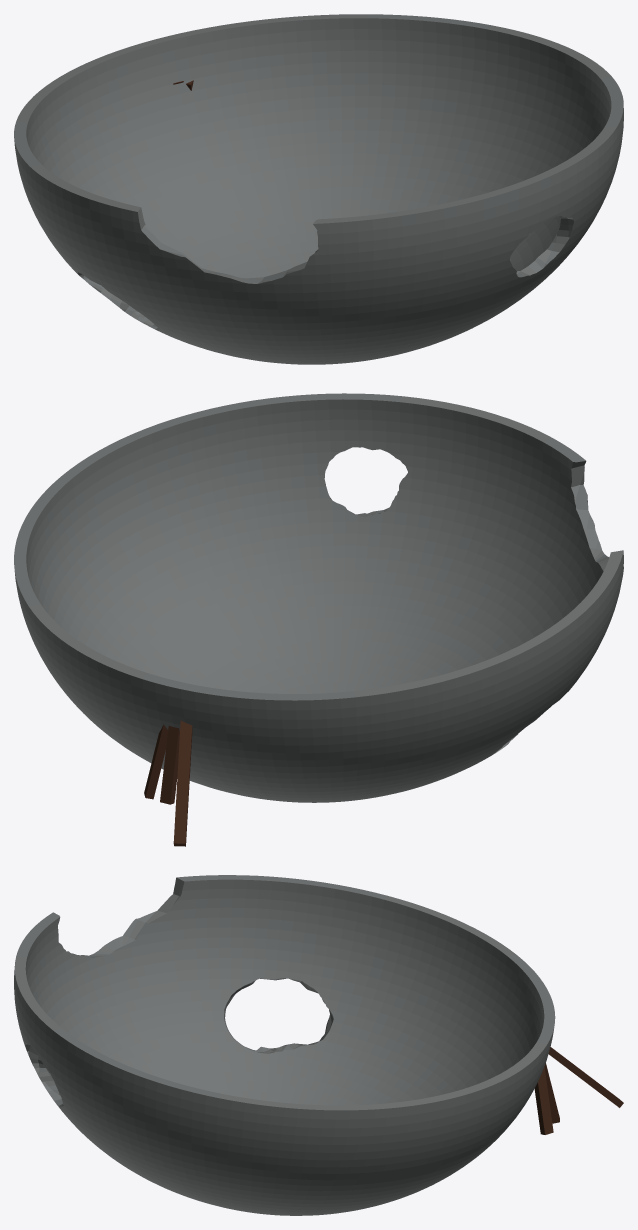
The model's file is Bowl.fbx.
3 renders of one model, top to bottom at view 1: azimuth 30°, elevation 25°; view 2: azimuth 150°, elevation 25°; view 3: azimuth 270°, elevation 25°, orthographic. The views are drawn at different scales.
Parts seen in each view (by area): view 1: Sphere; view 2: Sphere, Cube.002, Cube, Cube.001; view 3: Sphere, Cube.001, Cube.002.
Part boxes in pixels (x1=…): Sphere: x1=14, y1=14, x2=623, y2=364; Sphere: x1=14, y1=393, x2=623, y2=802; Cube.002: x1=173, y1=720, x2=192, y2=846; Cube: x1=160, y1=726, x2=179, y2=804; Cube.001: x1=144, y1=724, x2=167, y2=799; Sphere: x1=14, y1=875, x2=555, y2=1215; Cube.001: x1=534, y1=1066, x2=553, y2=1134; Cube.002: x1=548, y1=1047, x2=623, y2=1107.
Bounding box in the file's own units: 1696 × 743 × 1900.
